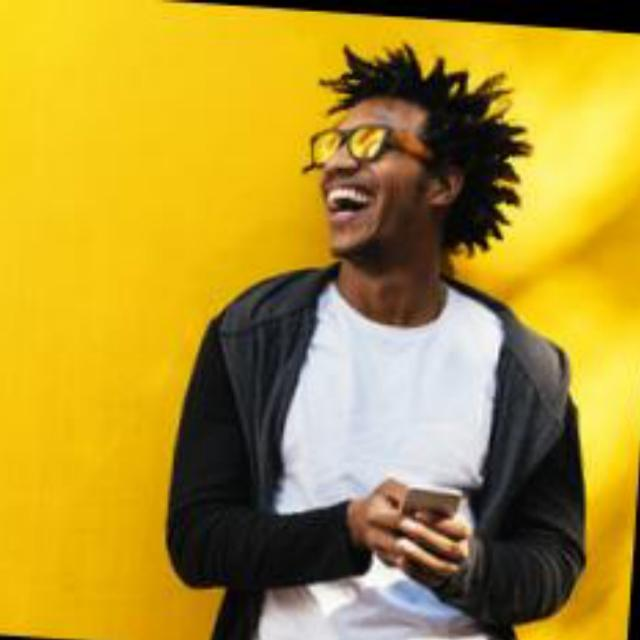Happy: (296, 71, 490, 306)
